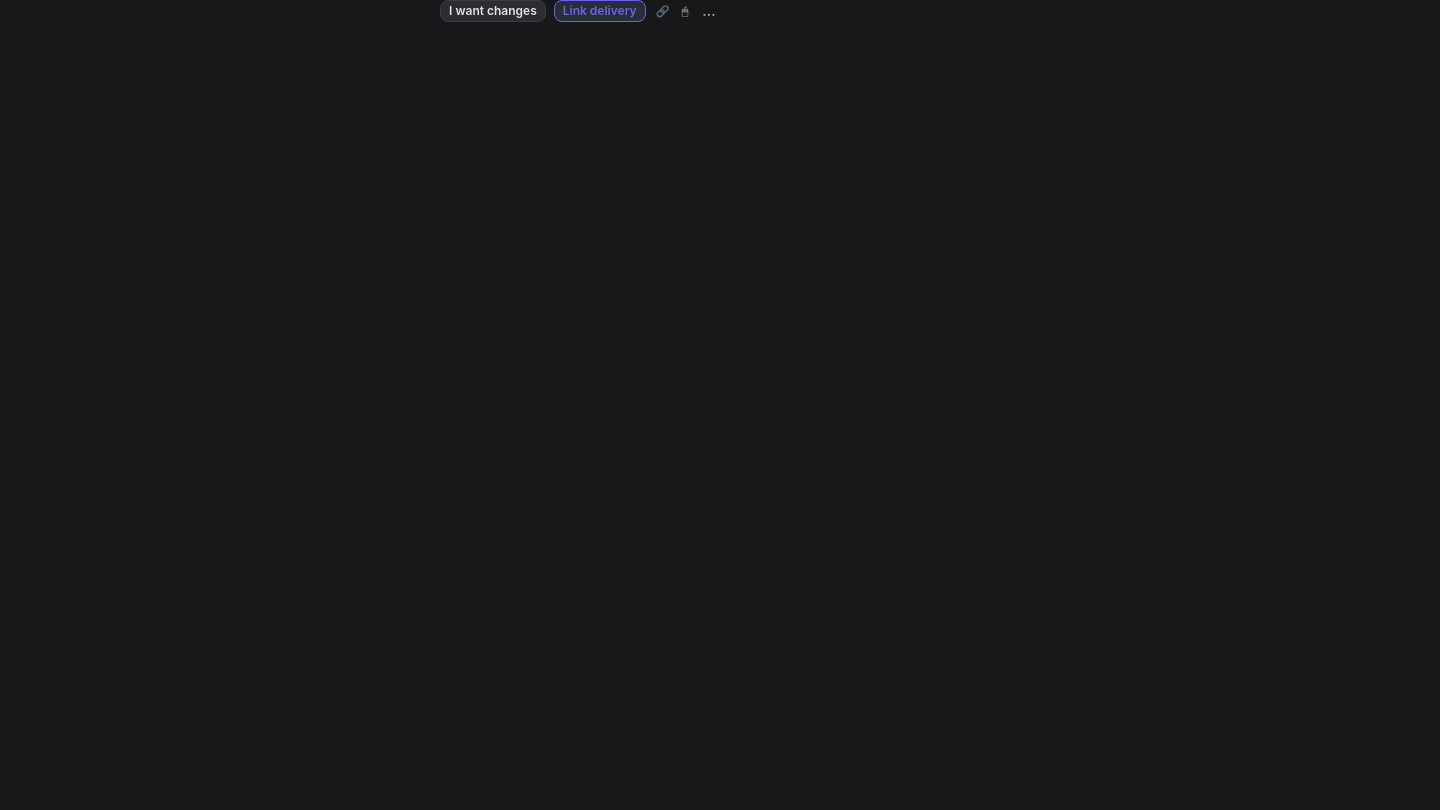
IntentTitleBarActions.vue — 「…」溢出菜单 › closes an open confirm dialog and refuses delete when the intent turns done mid-confirm
Click the button with test id "intent-detail-more" at (709, 11), box [698,0,720,22]
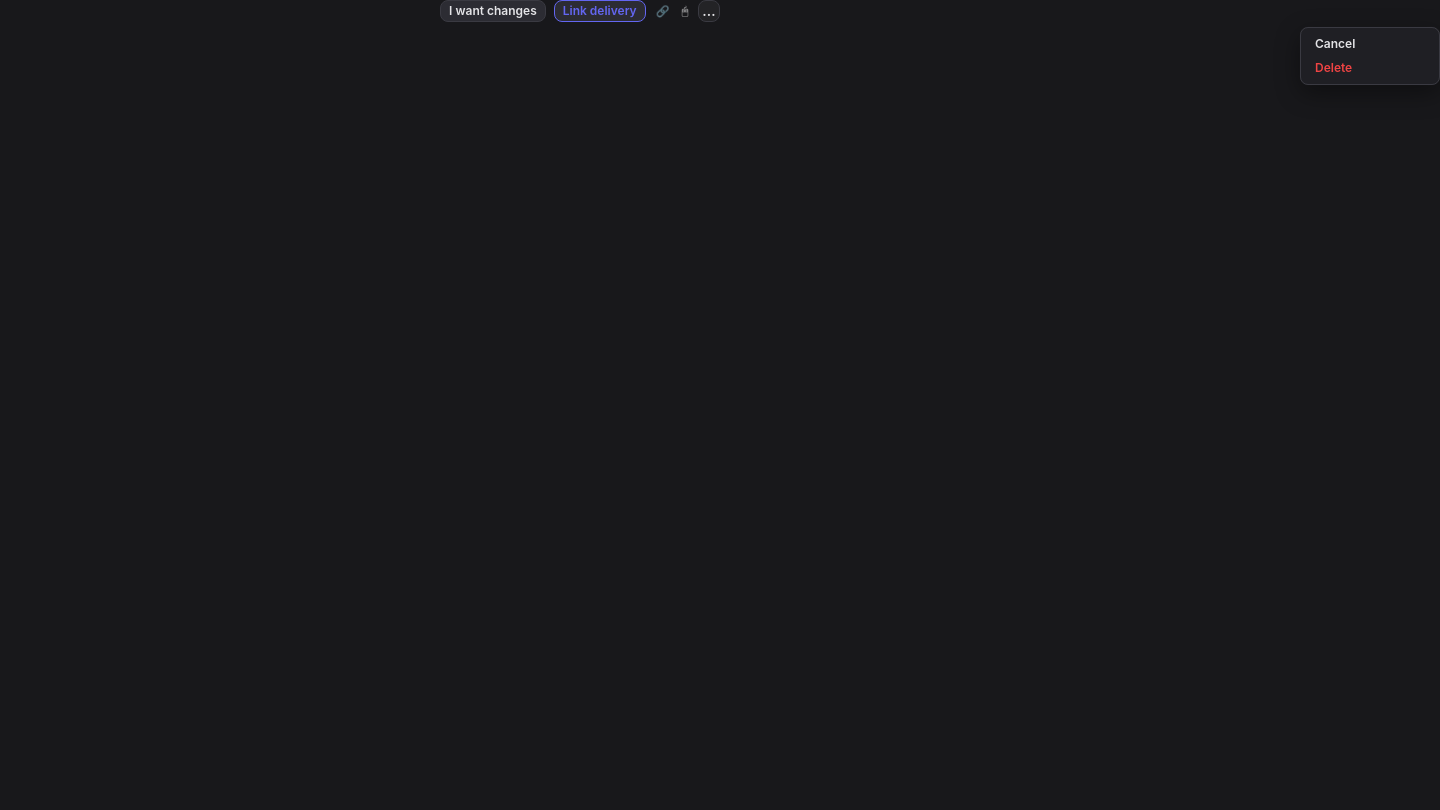
Click the button with test id "intent-detail-delete" at (1370, 68), box [1305,56,1435,80]
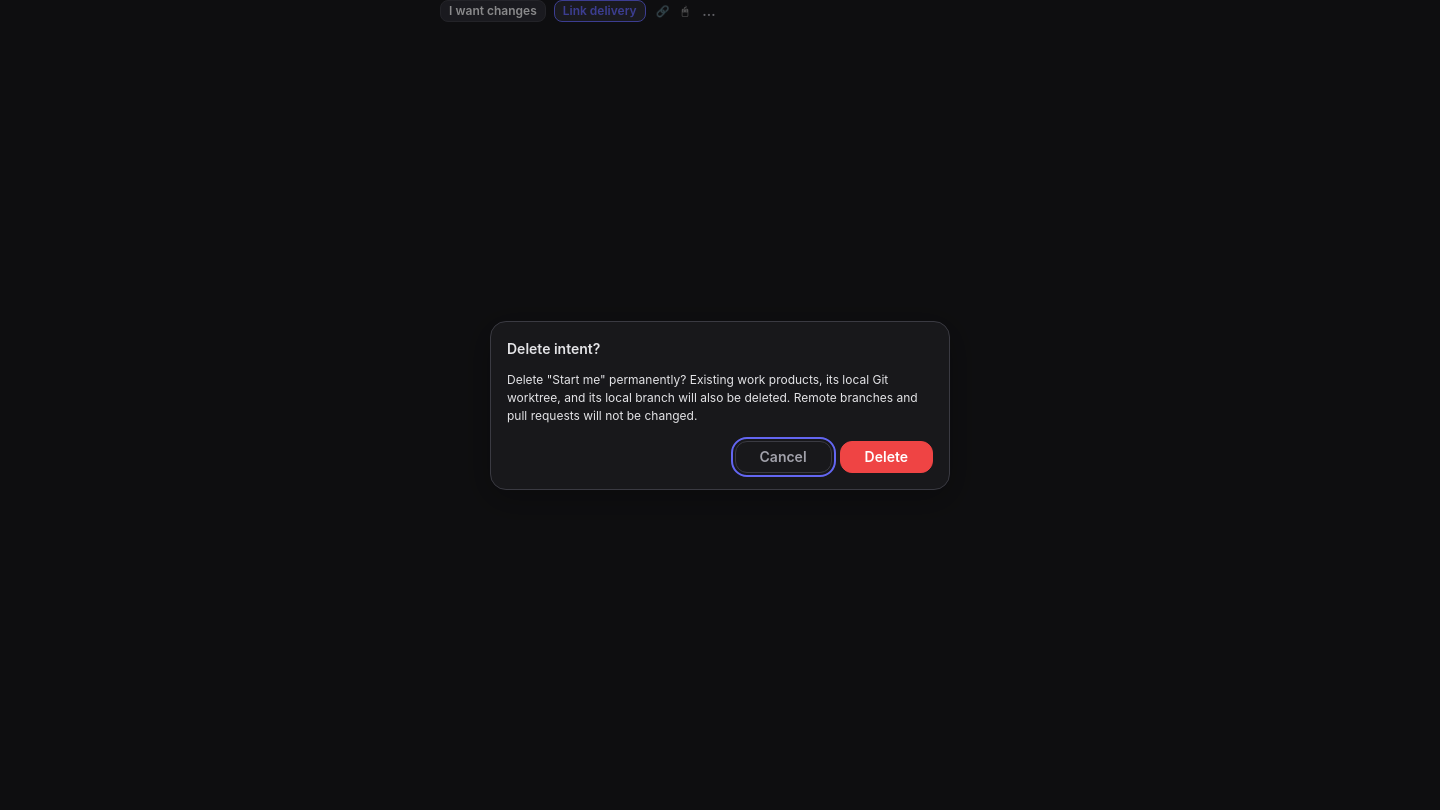
Expected: the dialog is shown, [490,320,950,490]
